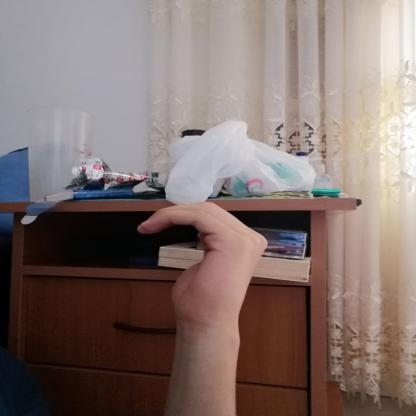HAA: (116, 192, 278, 330)
